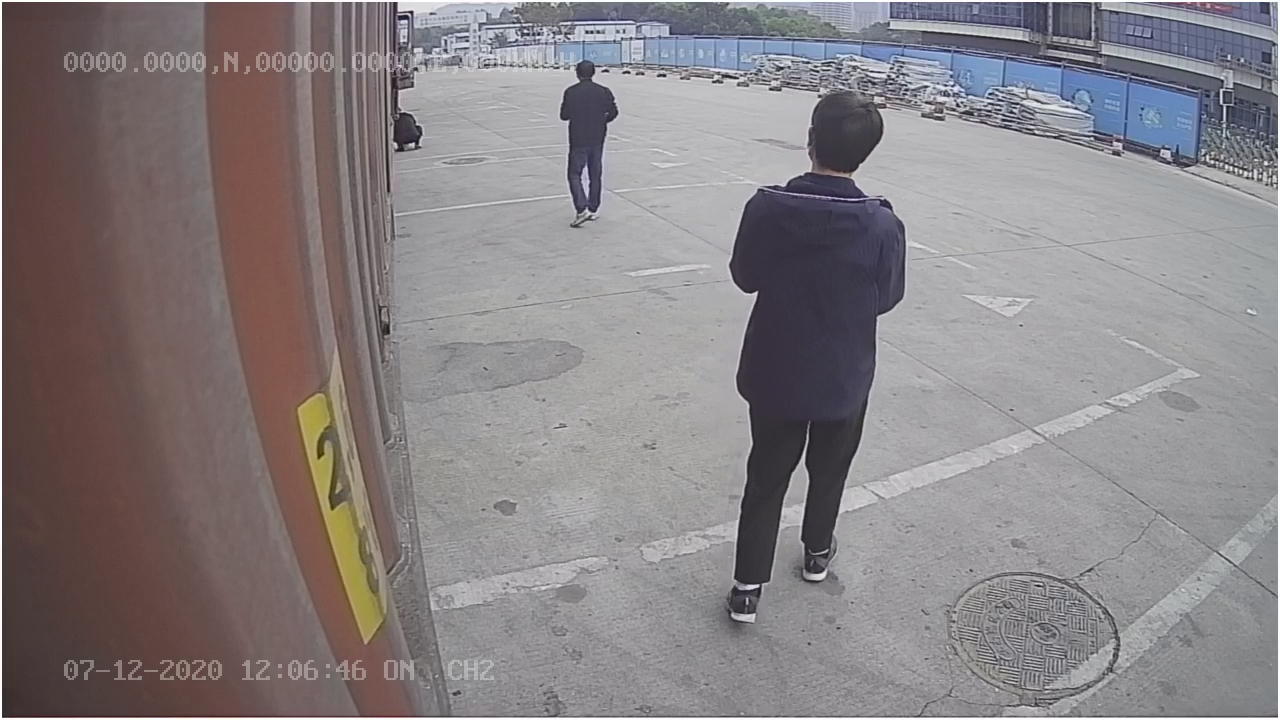person: (727, 79, 910, 632)
